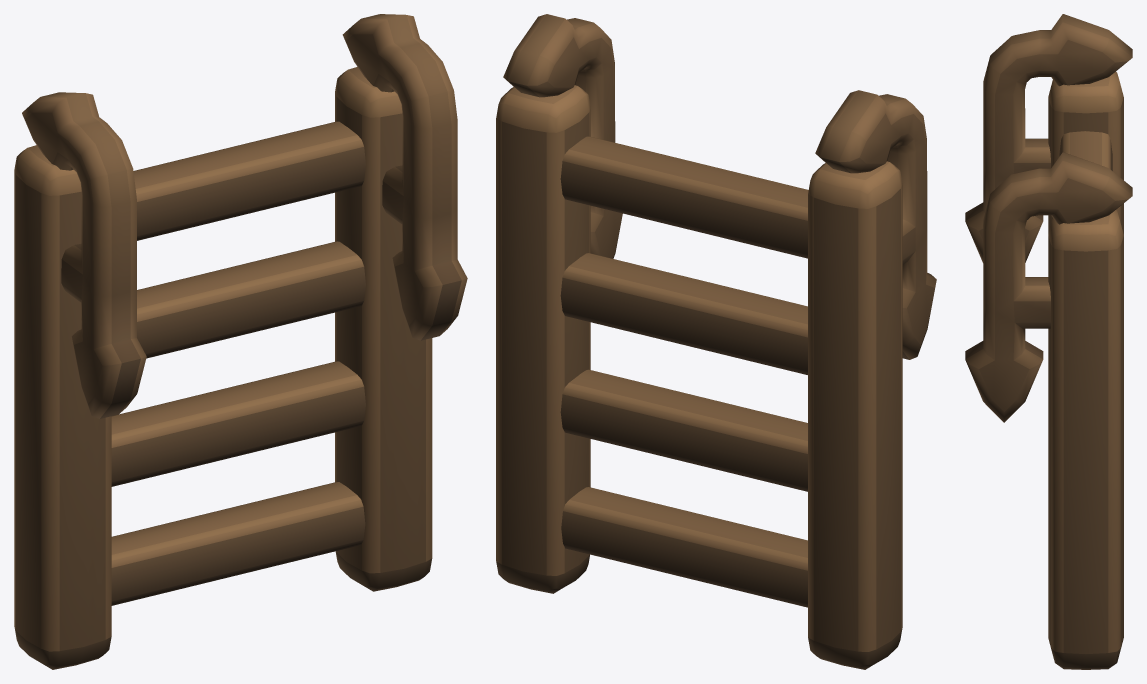
The model's file is Sandstone_Ladder_Top.fbx.
3 renders of one model, left to right at view 1: azimuth 30°, elevation 25°; view 2: azimuth 150°, elevation 25°; view 3: azimuth 270°, elevation 25°, orthographic. The views are drawn at different scales.
Visible parts, largest first — view 1: Sandstone_Ladder_Top_LOD0; view 2: Sandstone_Ladder_Top_LOD0; view 3: Sandstone_Ladder_Top_LOD0.
Boxes of the visible parts, left/top/right/bottom form: Sandstone_Ladder_Top_LOD0: left=14, top=14, right=467, bottom=669; Sandstone_Ladder_Top_LOD0: left=496, top=14, right=936, bottom=669; Sandstone_Ladder_Top_LOD0: left=965, top=14, right=1132, bottom=669.
Size of what is drawn, in the model's own units: 0.8613 by 1.19 by 0.3586.
